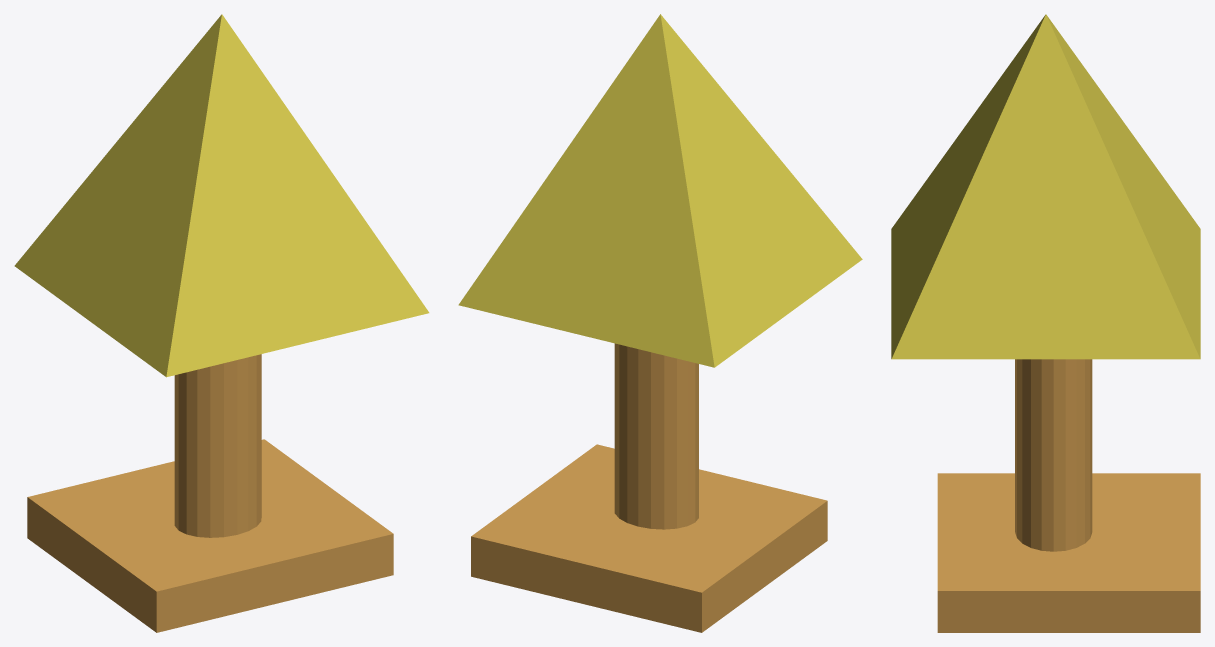
File: lamp1.glb
The picture shows the model from 3 angles, left to right: view 1: azimuth 30°, elevation 25°; view 2: azimuth 150°, elevation 25°; view 3: azimuth 270°, elevation 25°; orthographic projection. The views are drawn at different scales.
Visible parts, largest first — view 1: Mesh_Mesh_head_geo.001_lambert2SG.001; view 2: Mesh_Mesh_head_geo.001_lambert2SG.001; view 3: Mesh_Mesh_head_geo.001_lambert2SG.001.
Part boxes in pixels (bbox=[...]): Mesh_Mesh_head_geo.001_lambert2SG.001: bbox=[14, 14, 429, 632]; Mesh_Mesh_head_geo.001_lambert2SG.001: bbox=[458, 14, 862, 632]; Mesh_Mesh_head_geo.001_lambert2SG.001: bbox=[891, 14, 1200, 632].
Size of the model in its own units: 20 by 40 by 20.
